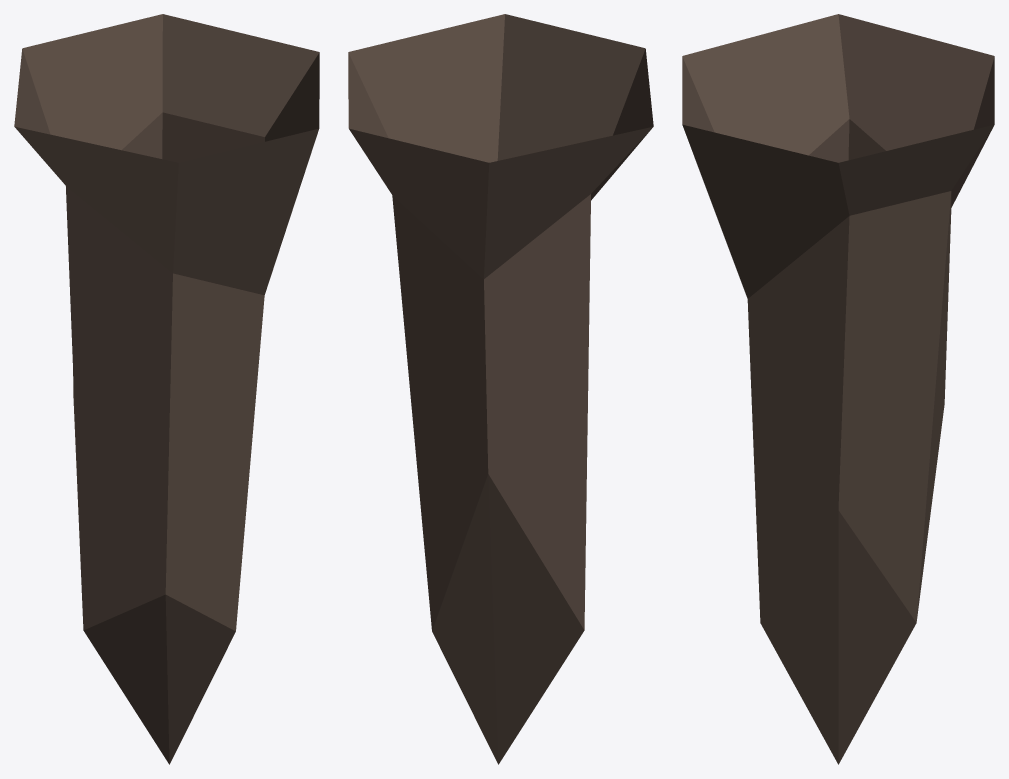
File: Stalacmite-A05.fbx
3 views of the same model, side by side, from view 1: azimuth 30°, elevation 25°; view 2: azimuth 150°, elevation 25°; view 3: azimuth 270°, elevation 25° (orthographic).
Parts seen in each view (by area): view 1: Stalacmite-A05; view 2: Stalacmite-A05; view 3: Stalacmite-A05.
Part boxes in pixels (left/top/right/bottom): Stalacmite-A05: left=14, top=14, right=319, bottom=764; Stalacmite-A05: left=348, top=14, right=653, bottom=764; Stalacmite-A05: left=682, top=14, right=994, bottom=764.
Size of the model in its own units: 101 by 213 by 89.41.
